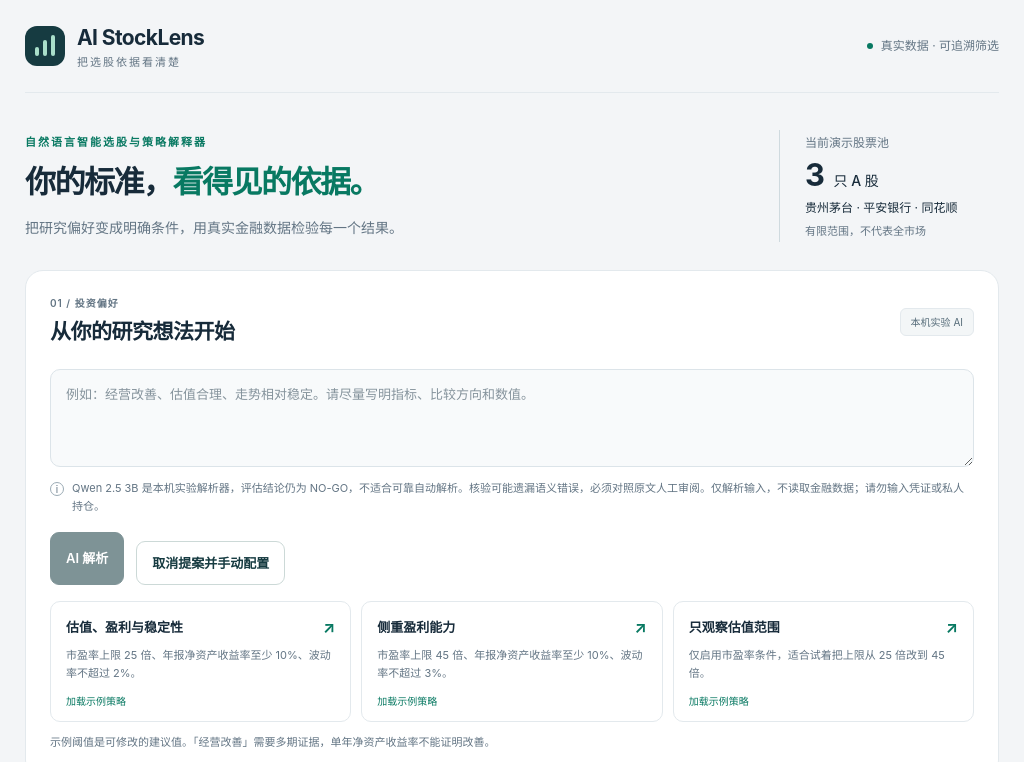
Scenario: editing text invalidates proposal and cancelling preserves manual rules
Type "PE不超过20倍" into the text box named "投资偏好". click: (512, 418)
box: [50,369,974,467]
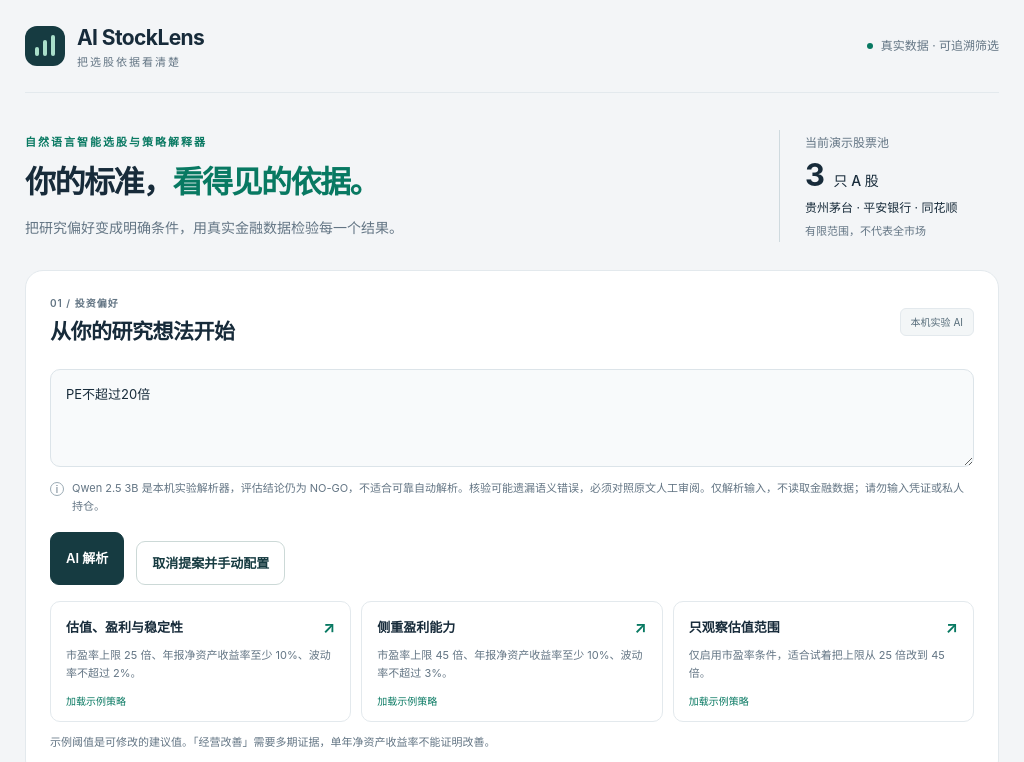
Click the button "AI 解析". click: (87, 559)
box: [50,532,124,585]
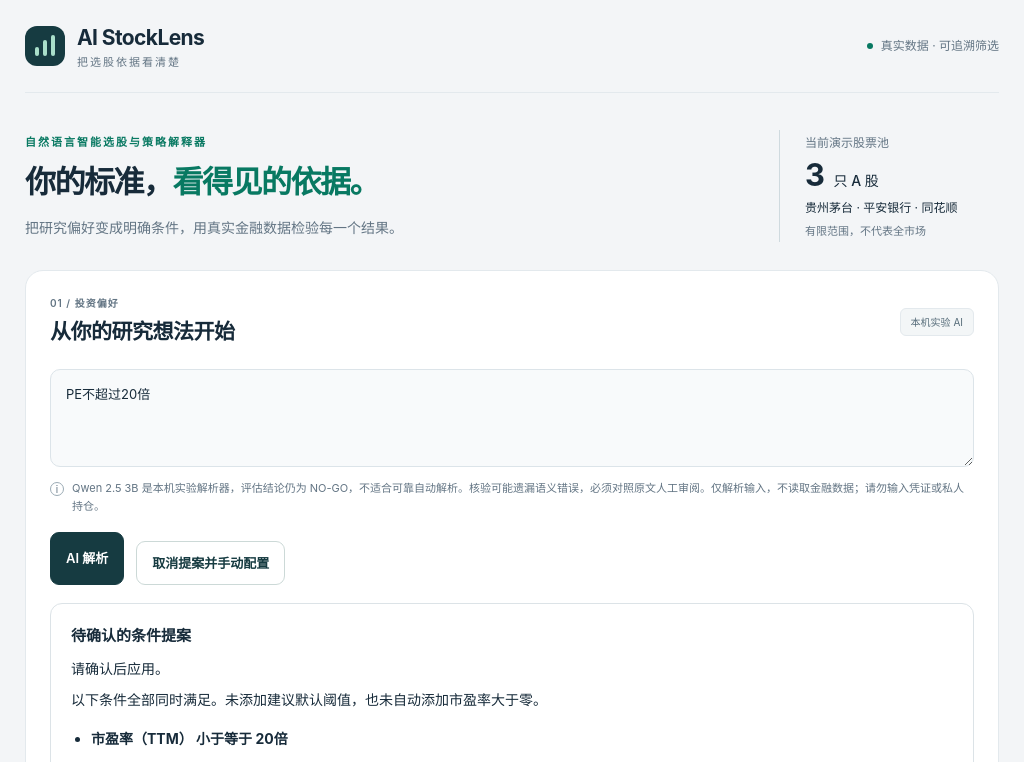
Check: the heading "待确认的条件提案" is shown, box [71,626,191,645]
Replace the text in the text box named "投资偏好" with "PE不超过30倍". click: (512, 418)
box: [50,369,974,467]
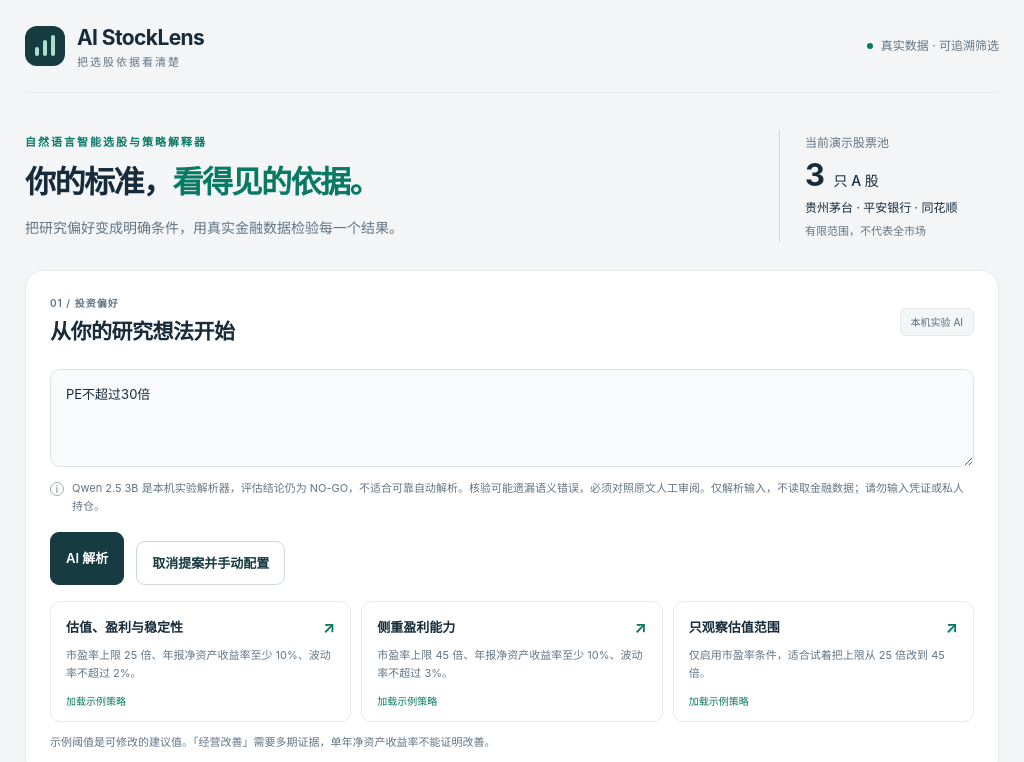
Click the button "AI 解析". click: (87, 559)
box: [50,532,124,585]
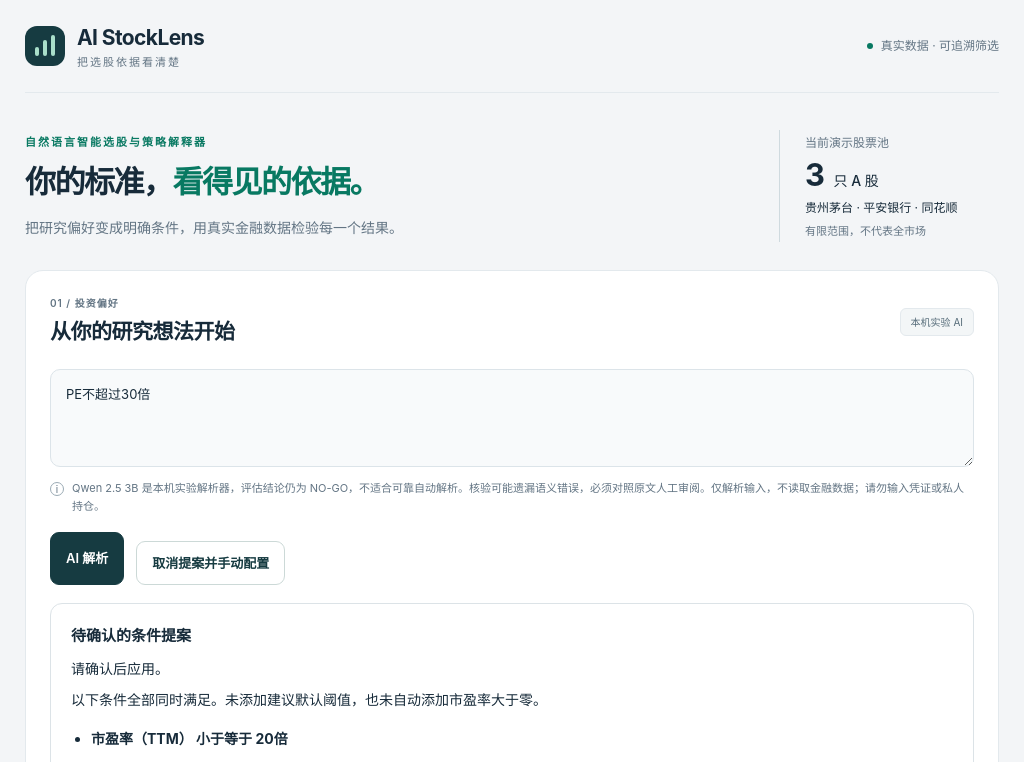
Check: the heading "待确认的条件提案" is shown, box [71,626,191,645]
Click the button "取消提案并手动配置". click: (211, 563)
box: [136,541,285,585]
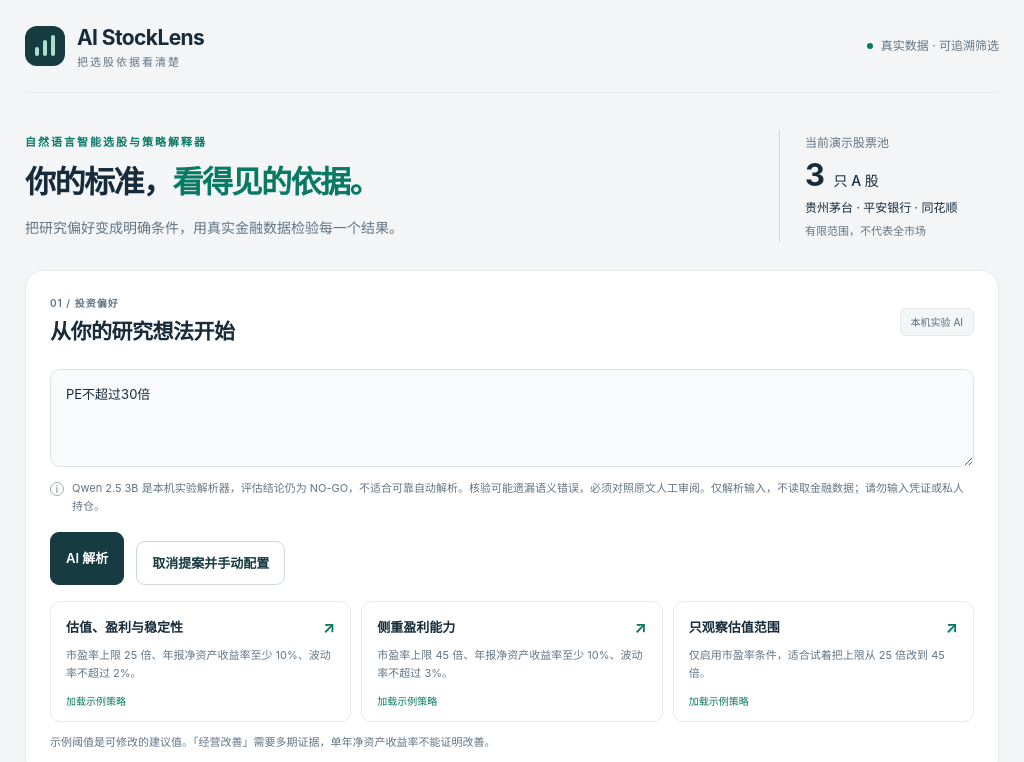
Check: the heading "待确认的条件提案" is gone
